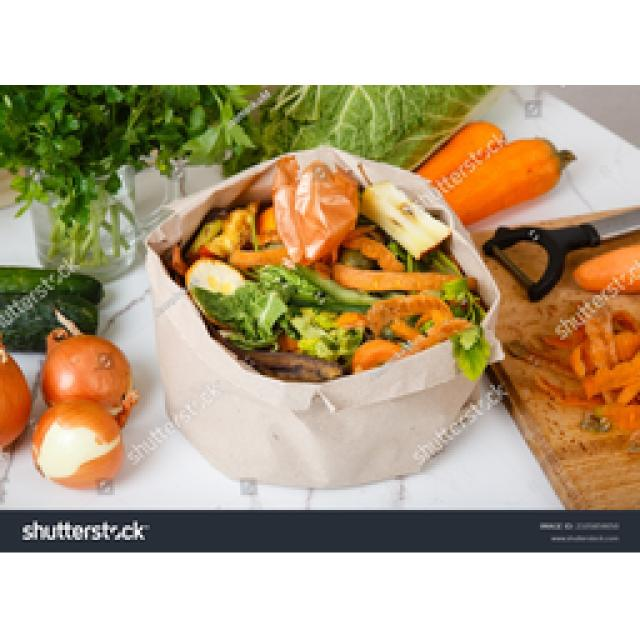food_waste: (0, 85, 572, 378), (32, 310, 138, 485), (538, 242, 638, 402), (0, 343, 28, 448)
